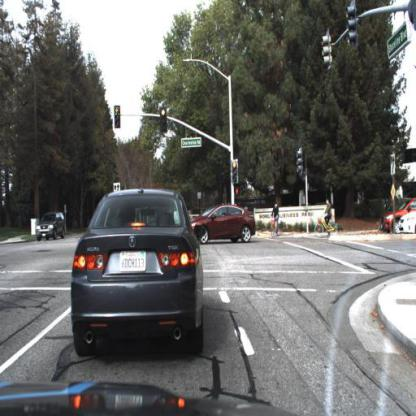biker: (314, 197, 341, 239), (268, 202, 283, 240)
car: (71, 186, 206, 357), (188, 205, 258, 245), (379, 199, 416, 235), (35, 211, 68, 240), (396, 204, 416, 239)
pedestrian: (243, 200, 251, 225)
trafficLight-Red: (232, 158, 239, 183), (161, 107, 167, 134)
trafficLight-RedLeft: (114, 104, 122, 127)
